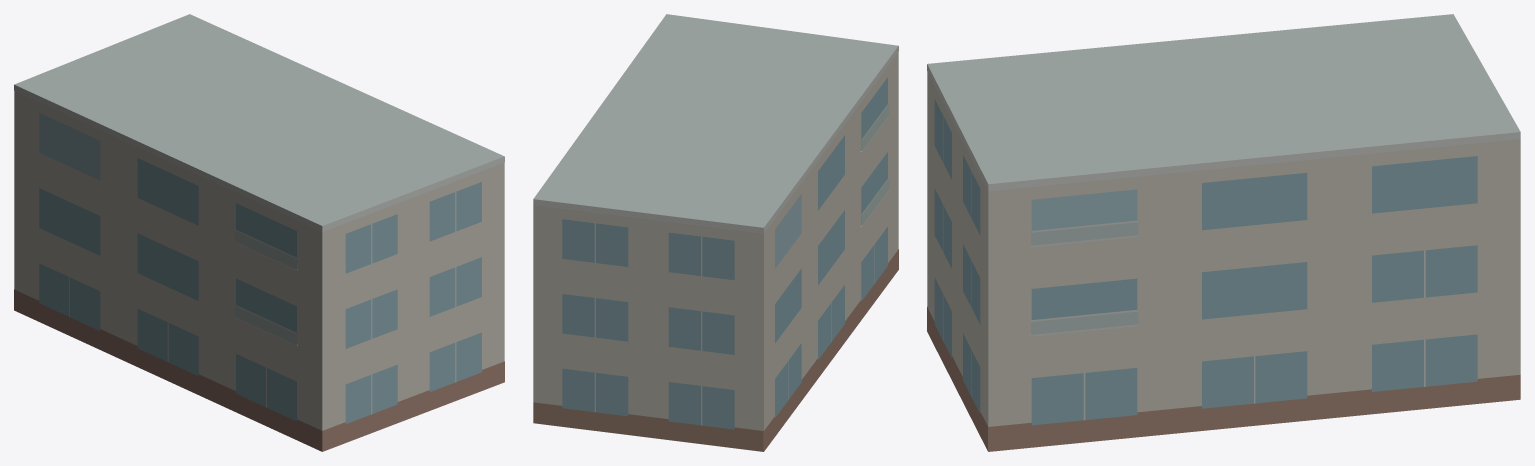
The model's file is survey-upis-32582663.glb.
3 renders of one model, left to right at view 1: azimuth 30°, elevation 25°; view 2: azimuth 150°, elevation 25°; view 3: azimuth 270°, elevation 25°, orthographic. The views are drawn at different scales.
Parts seen in each view (by area): view 1: survey-upis-32582663.tmp; view 2: survey-upis-32582663.tmp; view 3: survey-upis-32582663.tmp.
Part boxes in pixels (x1,y1,x2,y2): survey-upis-32582663.tmp: [14, 14, 504, 451]; survey-upis-32582663.tmp: [533, 14, 898, 451]; survey-upis-32582663.tmp: [927, 14, 1520, 451].
Size of the model in its own units: 12.49 by 9.15 by 18.41.
